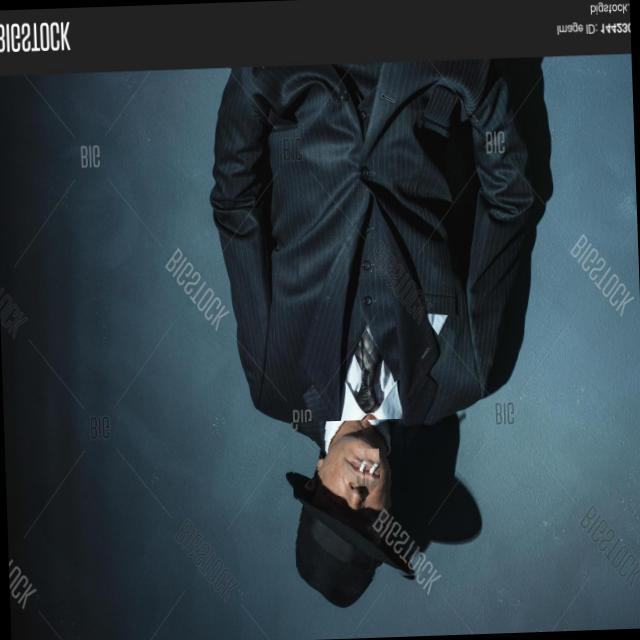cigarette: (364, 449, 379, 486)
